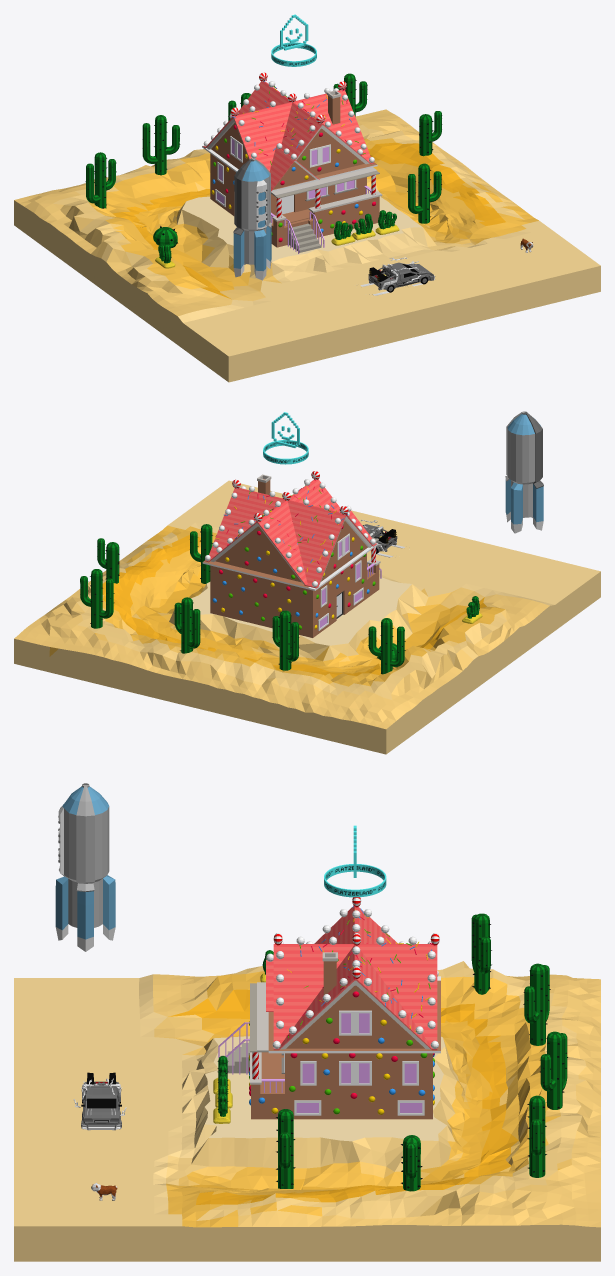
3 views of the same model, one above another, from view 1: azimuth 30°, elevation 25°; view 2: azimuth 150°, elevation 25°; view 3: azimuth 270°, elevation 25° (orthographic). The views are drawn at different scales.
Visible parts, largest first — view 1: Cube.001, Cube.1203, OBJRANDOM_ROCKETSHIP, VEHICLES_DELOREAN, Cylinder.044, Cylinder.037, Cylinder.045, TYPE_PREMIUM, Cylinder.038, Cylinder.042; view 2: Cube.001, Cube.1203, OBJRANDOM_ROCKETSHIP, Cylinder.042, Cylinder.045, Cylinder.044, Cylinder.043, TYPE_PREMIUM, Cylinder.037, Cylinder.038, VEHICLES_DELOREAN; view 3: Cube.001, Cube.1203, OBJRANDOM_ROCKETSHIP, VEHICLES_DELOREAN, Cylinder.043, Cylinder.044, Cylinder.045, Cylinder.042, Cylinder.037, TYPE_PREMIUM, Cylinder.038.
Boxes of the visible parts, x1,y1,x2,y2 form: Cube.001: (14, 109, 600, 382); Cube.1203: (202, 72, 382, 253); OBJRANDOM_ROCKETSHIP: (233, 158, 271, 280); VEHICLES_DELOREAN: (360, 257, 435, 295); Cylinder.044: (142, 115, 180, 175); Cylinder.037: (407, 163, 441, 223); Cylinder.045: (85, 152, 116, 208); TYPE_PREMIUM: (271, 14, 316, 66); Cylinder.038: (419, 111, 442, 156); Cylinder.042: (333, 73, 367, 116); Cube.001: (14, 480, 600, 754); Cube.1203: (202, 471, 381, 637); OBJRANDOM_ROCKETSHIP: (505, 411, 543, 533); Cylinder.042: (80, 569, 114, 628); Cylinder.045: (368, 618, 405, 674); Cylinder.044: (272, 610, 299, 670); Cylinder.043: (174, 597, 200, 653); TYPE_PREMIUM: (263, 412, 308, 464); Cylinder.037: (190, 524, 216, 583); Cylinder.038: (97, 538, 119, 583); VEHICLES_DELOREAN: (361, 519, 409, 557); Cube.001: (14, 961, 600, 1261); Cube.1203: (218, 897, 440, 1119); OBJRANDOM_ROCKETSHIP: (55, 783, 115, 951); VEHICLES_DELOREAN: (73, 1072, 126, 1130); Cylinder.043: (539, 1031, 567, 1109); Cylinder.044: (523, 963, 550, 1045); Cylinder.045: (471, 913, 491, 994); Cylinder.042: (527, 1095, 546, 1177); Cylinder.037: (276, 1109, 295, 1188); TYPE_PREMIUM: (324, 825, 386, 897); Cylinder.038: (401, 1135, 422, 1191).
Size of the model in its own units: 4002 by 2410 by 4001.
47 materials, 4 textured.
